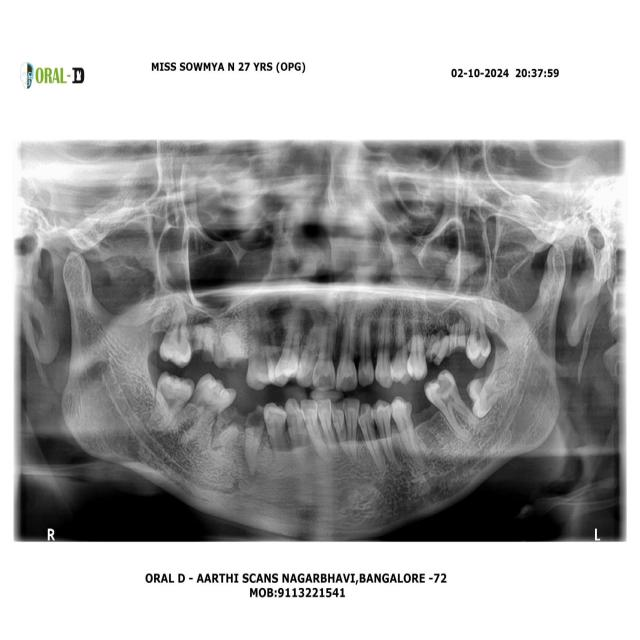Premolars: (392, 398, 426, 472)
